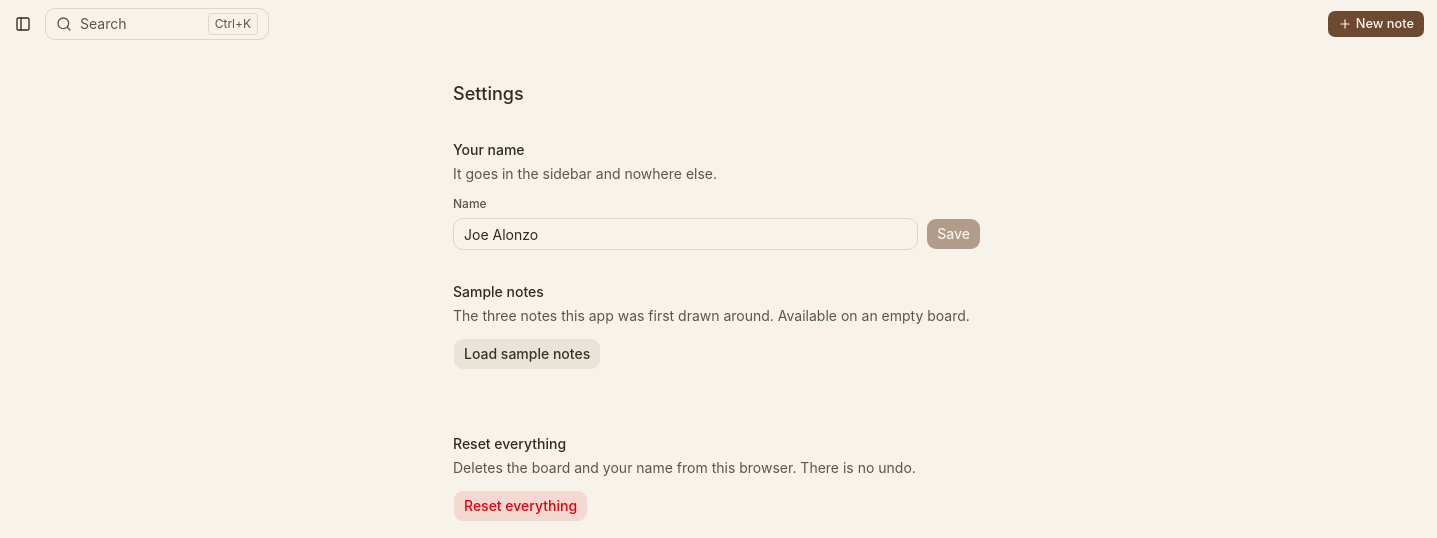
Scenario: T87 · sample notes › cannot be pressed twice, because loading three notes disables it
The width and height of the screenshot is (1437, 538).
Click the button "Load sample notes".
click(527, 354)  # box [453,338,601,370]
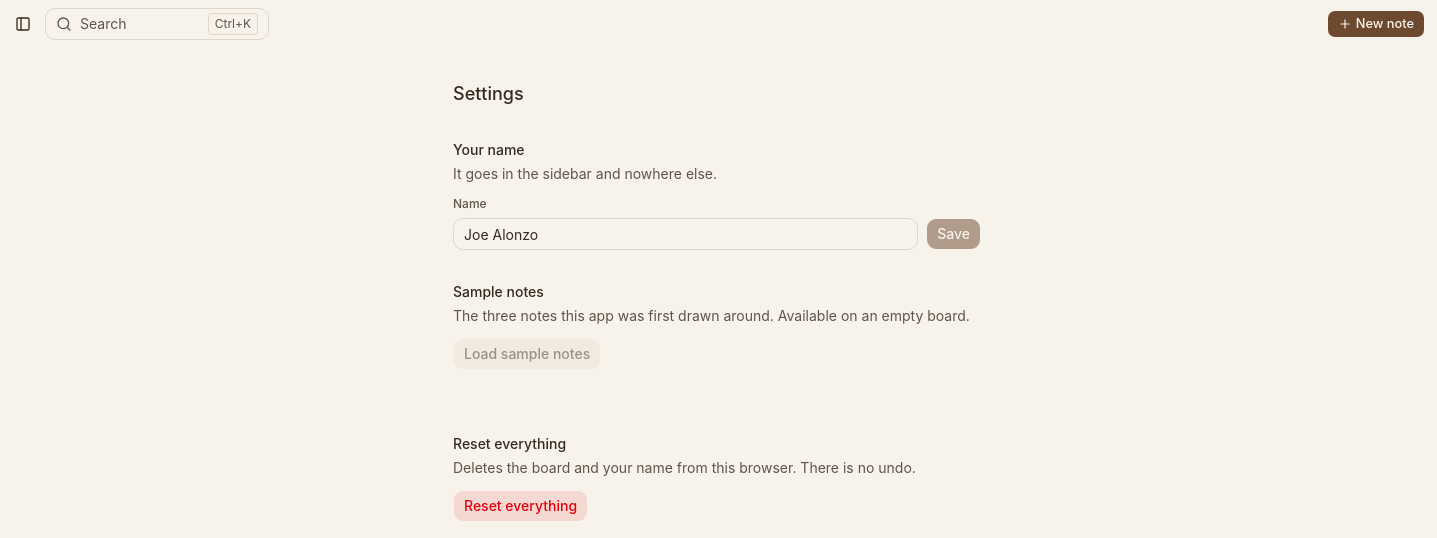
expect the button "Load sample notes" is disabled: met, box [453,338,601,370]
